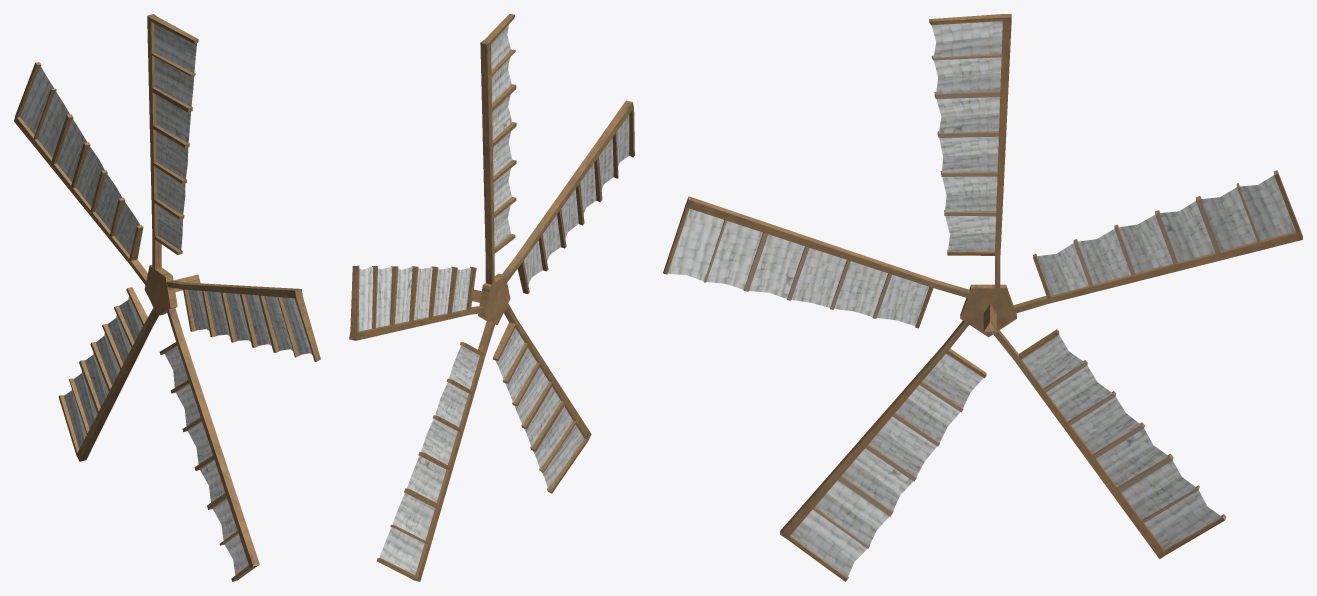
File: Windmill_01_Blades.obj
The picture shows the model from 3 angles, left to right: view 1: azimuth 30°, elevation 25°; view 2: azimuth 150°, elevation 25°; view 3: azimuth 270°, elevation 25°; orthographic projection. The views are drawn at different scales.
Parts seen in each view (by area): view 1: Windmill_01_Blades; view 2: Windmill_01_Blades; view 3: Windmill_01_Blades.
Part boxes in pixels (box(x1,y1,x2,y2)): Windmill_01_Blades: box(14, 14, 320, 581); Windmill_01_Blades: box(349, 14, 634, 581); Windmill_01_Blades: box(663, 14, 1302, 581).
Size of the model in its own units: 2.18 by 25.83 by 26.69.
1 material, 1 textured.
